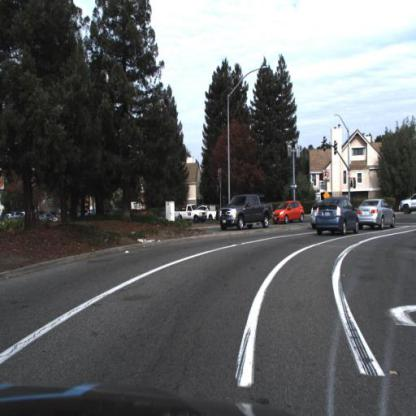car: (216, 184, 272, 240), (313, 193, 358, 239), (356, 197, 398, 232), (271, 195, 307, 230), (171, 205, 207, 224), (400, 190, 416, 216), (308, 200, 319, 231)
